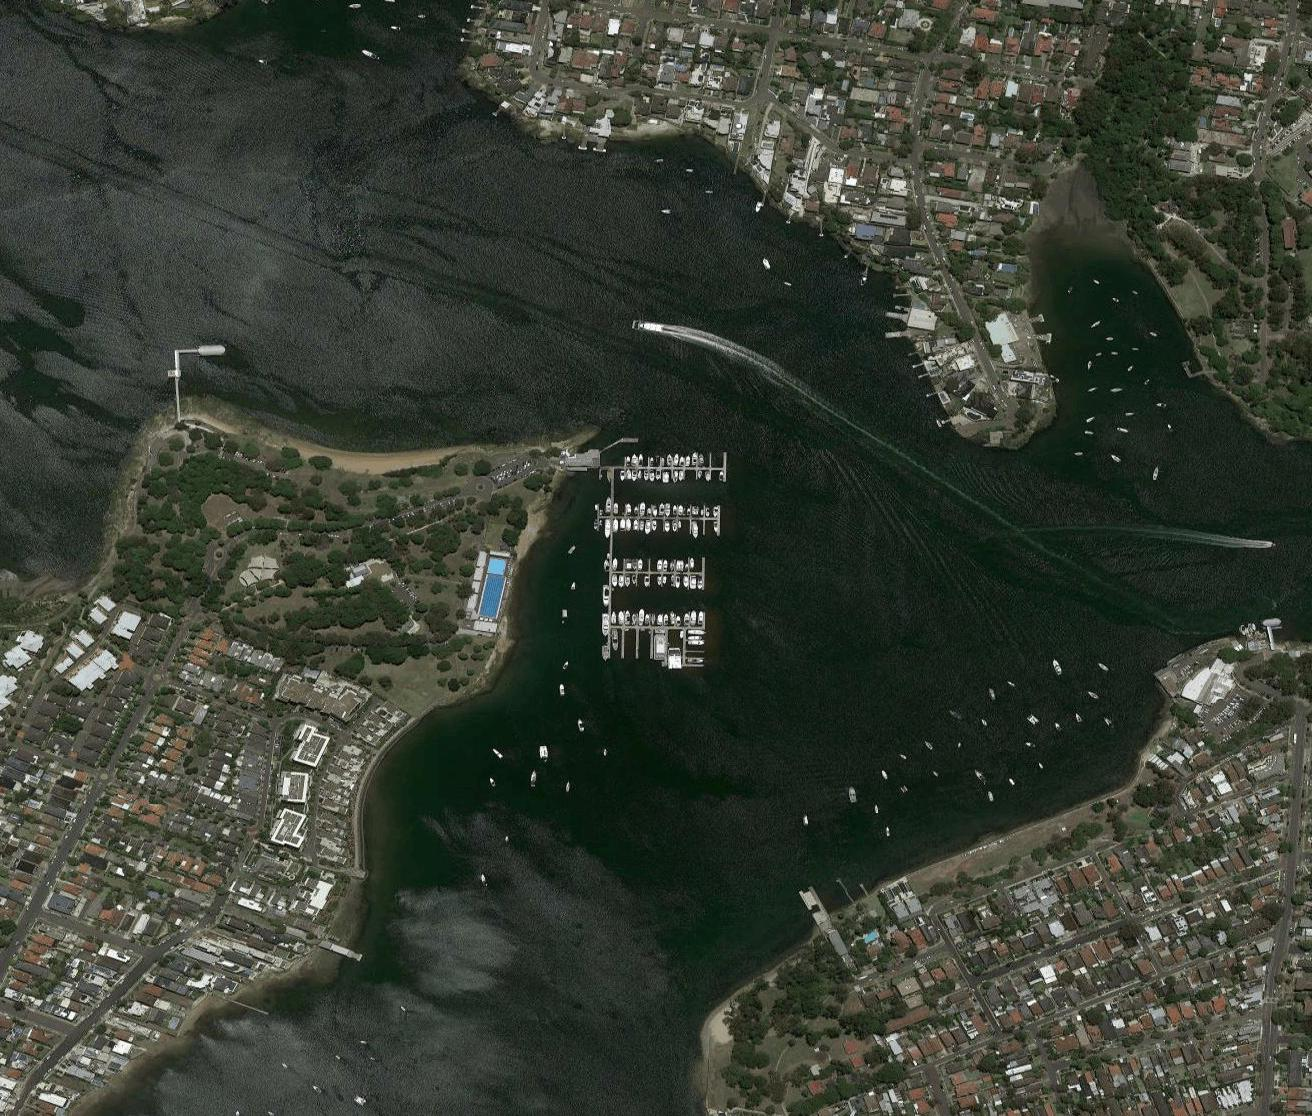harbor: (574, 420, 746, 696)
